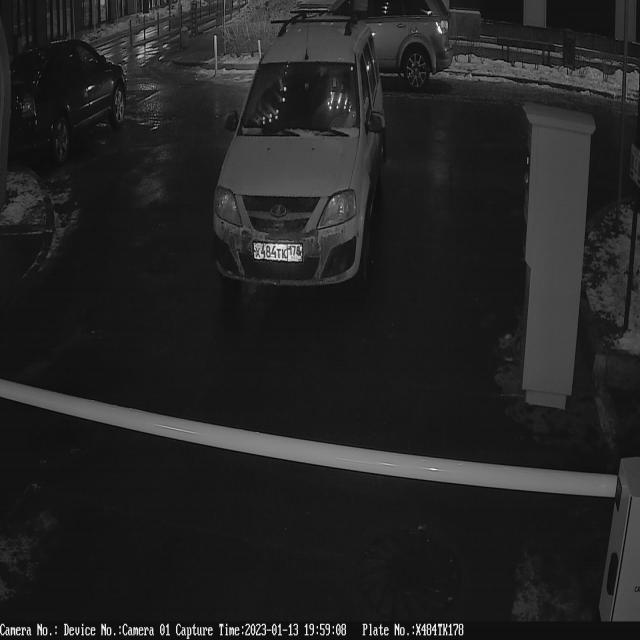car-plate-numbers: (250, 239, 306, 270)
